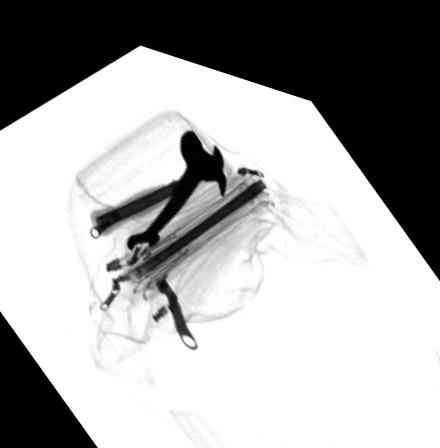Hammer: (88, 111, 230, 229)
Wrench: (127, 113, 225, 240)
